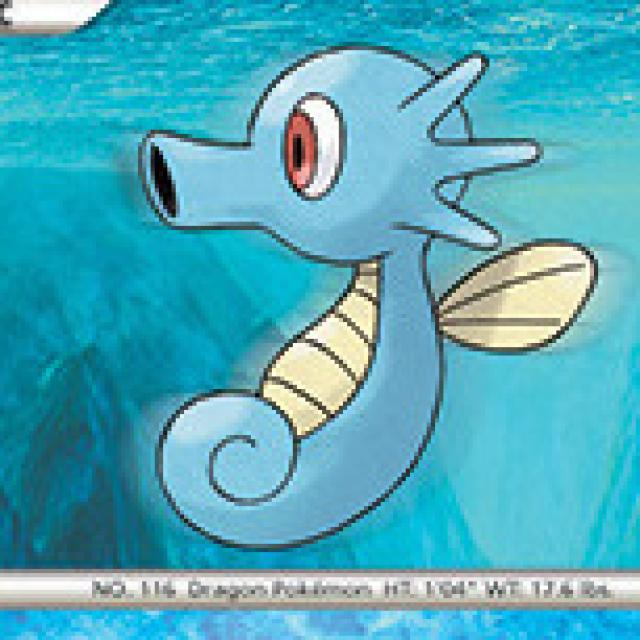Horsea: (140, 46, 544, 545)
